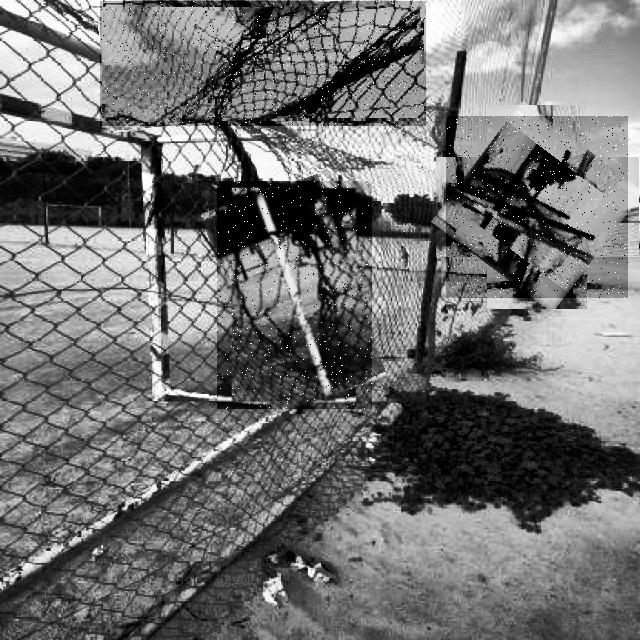anomaly-fence: (100, 1, 426, 126), (217, 181, 372, 409), (446, 116, 628, 298)
